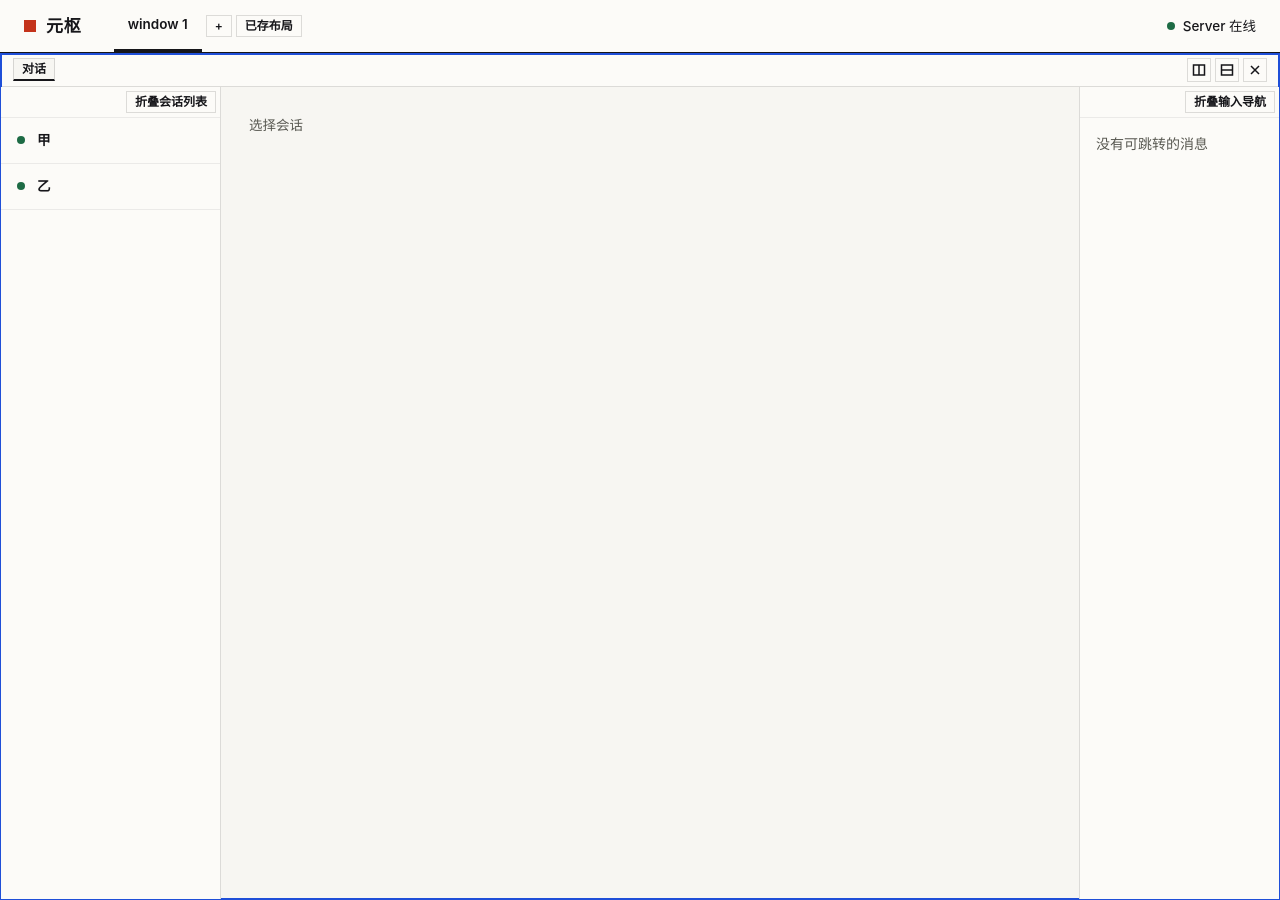
Scenario: R1 新建 window 后有两个 tab，可切换
Click the button named "新建 window".
click(219, 26)  # box [206, 15, 232, 37]
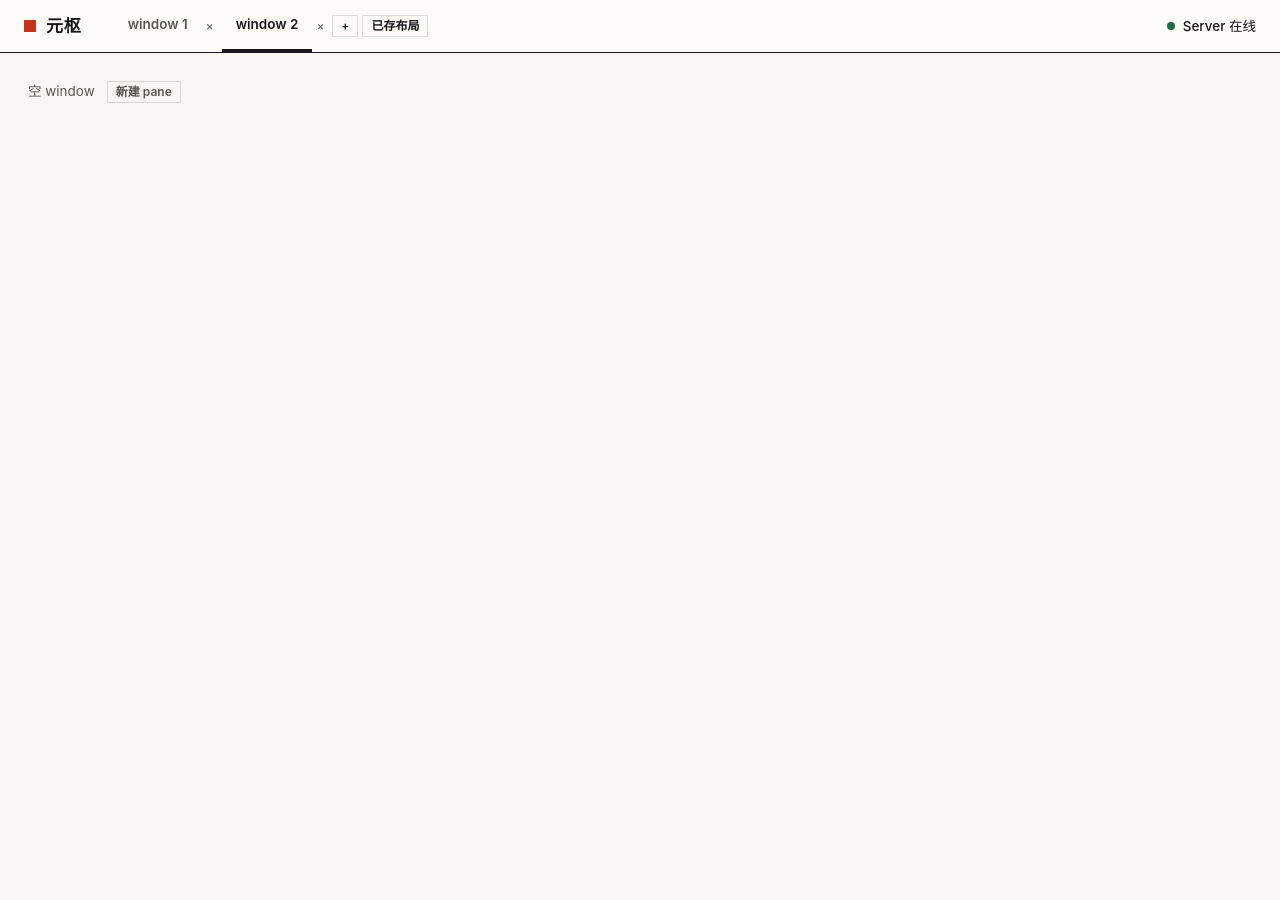
Expected: the number of tabs is 2, [114, 0, 202, 52]; [222, 0, 312, 52]
Expected: the text "空 window" is shown, [28, 84, 95, 100]
